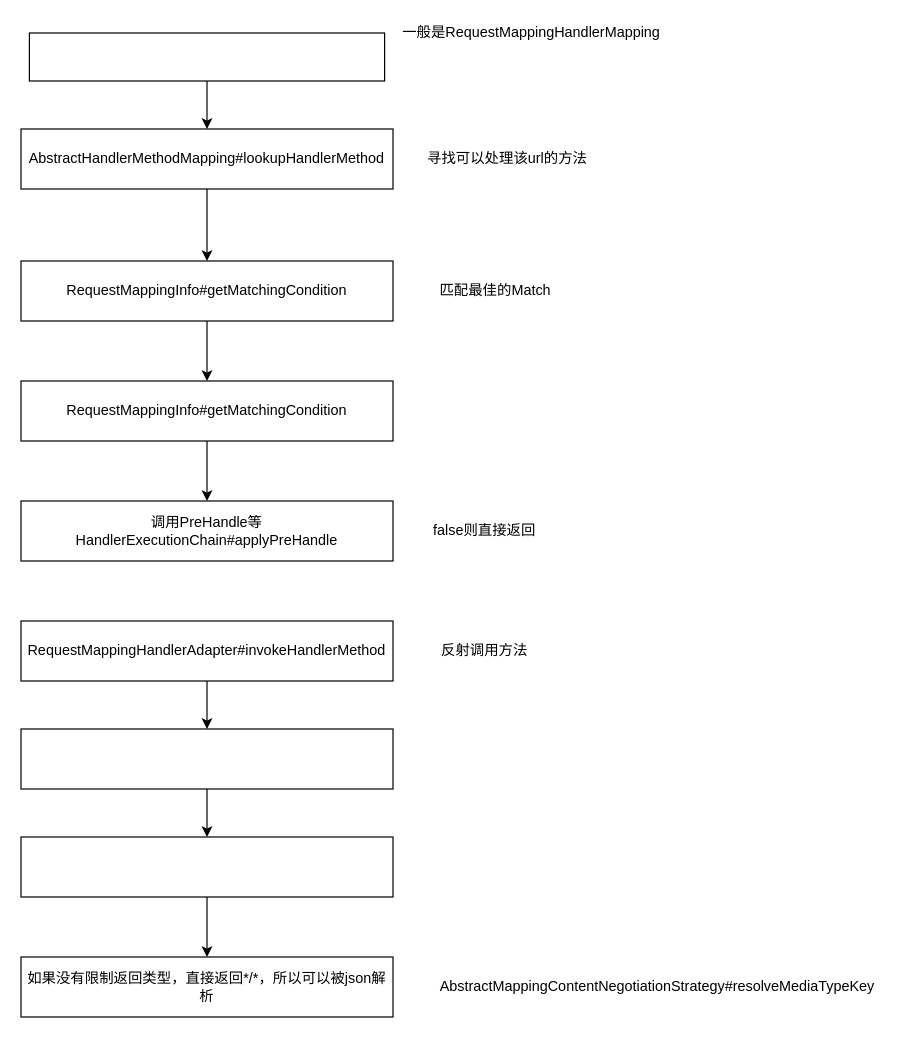
This 906x1038 diagram has some shape labels left out. The centre of each missing label's shape, as x and y in pixels:
"DispatcherServlet#getHandler" goes at [206,56].
"webDataBinderFactory处理数据" goes at [206,758].
"设置ReturnValueHandle处理返回数据" goes at [206,866].
